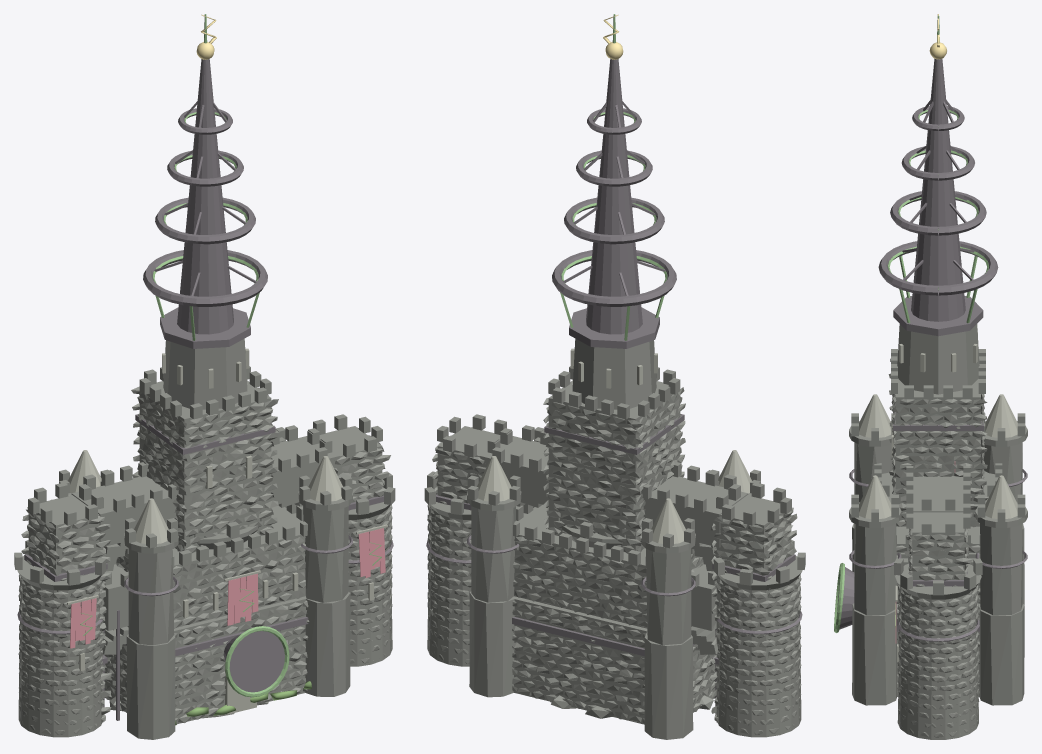
File: ThunderF29Kit.fbx
The picture shows the model from 3 angles, left to right: view 1: azimuth 30°, elevation 25°; view 2: azimuth 150°, elevation 25°; view 3: azimuth 270°, elevation 25°; orthographic projection. The views are drawn at different scales.
Visible parts, largest first — view 1: RedoubtCitadelKeep__STONE, BarbicanGatehouse__STONE, StormBellGatehouse__STONE, RedoubtCitadelKeep__METAL, RedoubtCitadelKeep__TRIM, SignalHornCannon__METAL, BarbicanGatehouse__ALT, RedoubtCitadelKeep__ALT, RedoubtCitadelKeep__ACCENT, SignalHornCannon__ACCENT, BarbicanGatehouse__METAL, StormkeepRoundTower__STONE (+2 smaller); view 2: RedoubtCitadelKeep__STONE, BarbicanGatehouse__STONE, RedoubtCitadelKeep__METAL, StormBellGatehouse__STONE, RedoubtCitadelKeep__TRIM, RedoubtCitadelKeep__ACCENT, StormkeepRoundTower__STONE, StormBellGatehouse__METAL; view 3: RedoubtCitadelKeep__STONE, RedoubtCitadelKeep__METAL, BarbicanGatehouse__STONE, StormBellGatehouse__STONE, RedoubtCitadelKeep__TRIM, RedoubtCitadelKeep__ACCENT, SignalHornCannon__METAL, SignalHornCannon__ACCENT, BarbicanGatehouse__METAL.
Boxes of the visible parts, box(x1,y1,x2,y2) form: RedoubtCitadelKeep__STONE: box(59, 338, 352, 739); BarbicanGatehouse__STONE: box(14, 471, 395, 737); StormBellGatehouse__STONE: box(21, 414, 391, 722); RedoubtCitadelKeep__METAL: box(124, 59, 352, 656); RedoubtCitadelKeep__TRIM: box(68, 348, 342, 714); SignalHornCannon__METAL: box(223, 631, 284, 692); BarbicanGatehouse__ALT: box(70, 528, 385, 648); RedoubtCitadelKeep__ALT: box(227, 573, 258, 625); RedoubtCitadelKeep__ACCENT: box(152, 14, 259, 611); SignalHornCannon__ACCENT: box(225, 626, 289, 697); BarbicanGatehouse__METAL: box(17, 540, 393, 720); StormkeepRoundTower__STONE: box(194, 512, 261, 549); RedoubtCitadelKeep__STONE: box(467, 338, 760, 739); BarbicanGatehouse__STONE: box(424, 471, 805, 737); RedoubtCitadelKeep__METAL: box(467, 59, 695, 656); StormBellGatehouse__STONE: box(431, 414, 797, 722); RedoubtCitadelKeep__TRIM: box(477, 348, 751, 543); RedoubtCitadelKeep__ACCENT: box(560, 14, 667, 340); StormkeepRoundTower__STONE: box(558, 512, 625, 549); StormBellGatehouse__METAL: box(436, 494, 795, 713); RedoubtCitadelKeep__STONE: box(849, 324, 1027, 705); RedoubtCitadelKeep__METAL: box(849, 58, 1027, 631); BarbicanGatehouse__STONE: box(894, 553, 982, 739); StormBellGatehouse__STONE: box(904, 466, 973, 721); RedoubtCitadelKeep__TRIM: box(859, 332, 1017, 518); RedoubtCitadelKeep__ACCENT: box(887, 15, 988, 323); SignalHornCannon__METAL: box(837, 567, 854, 629); SignalHornCannon__ACCENT: box(834, 563, 844, 632); BarbicanGatehouse__METAL: box(897, 619, 979, 641).
Size of the model in its own units: 73.83 by 129 by 35.31.
